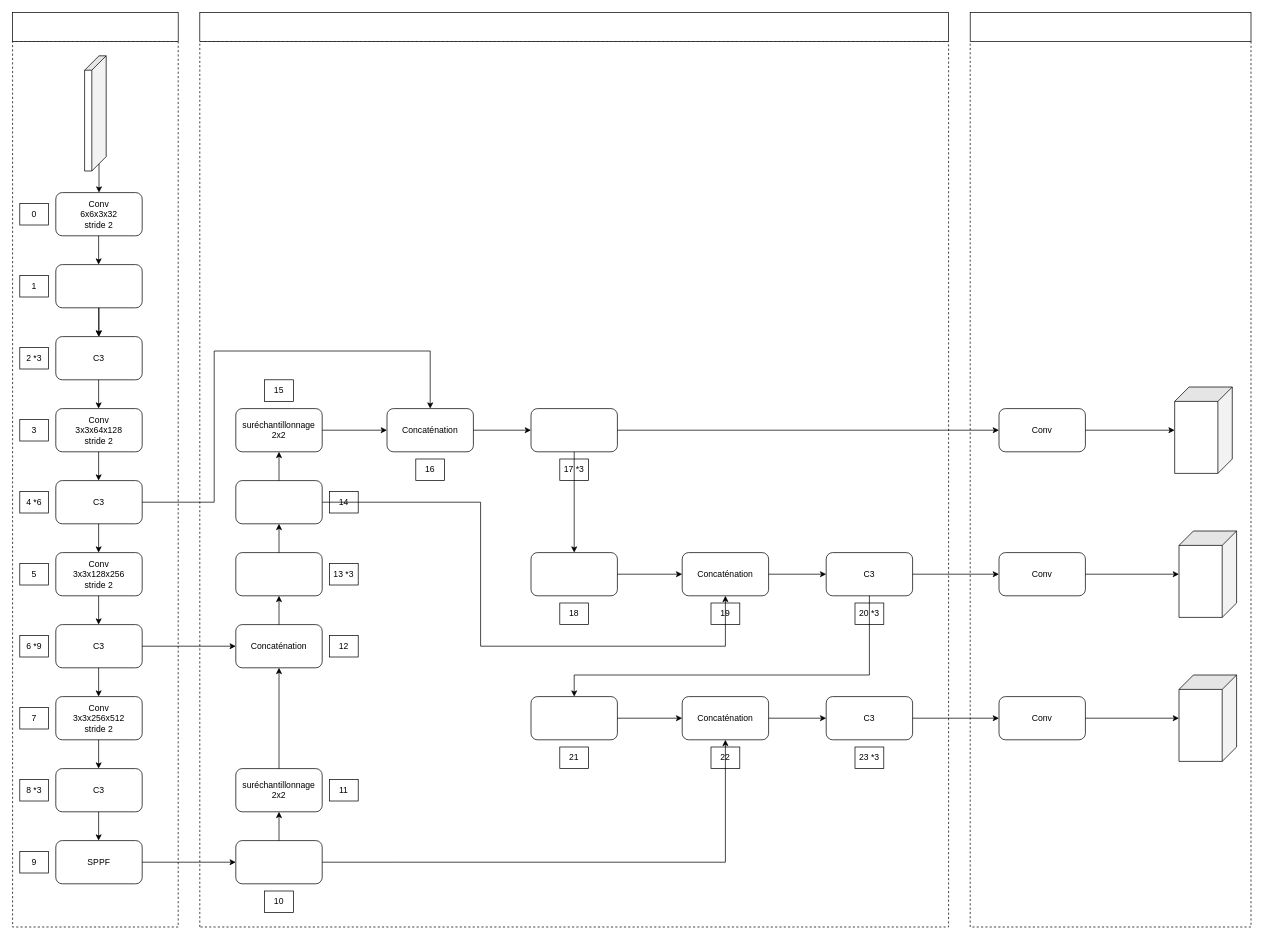
Some shapes in this 1264 by 940 pixel diagram are drawn without their labels. The shapes that lost their labels are listed below. From the top down, each one's centre as x and y in pixels, then its label:
At point (95, 26): "Backbone".
At point (574, 26): "Neck".
At point (1110, 26): "Detection".
At point (98, 286): "Conv 3x3x32x64 stride 2".
At point (573, 430): "C3 256x128".
At point (278, 502): "Conv 1x1x256x128".
At point (278, 574): "C3 512x256".
At point (573, 574): "Conv 3x3x128x128 stride 2".
At point (573, 718): "Conv 3x3x128x128 sride 2".
At point (278, 862): "Conv 1x1x512x256".
